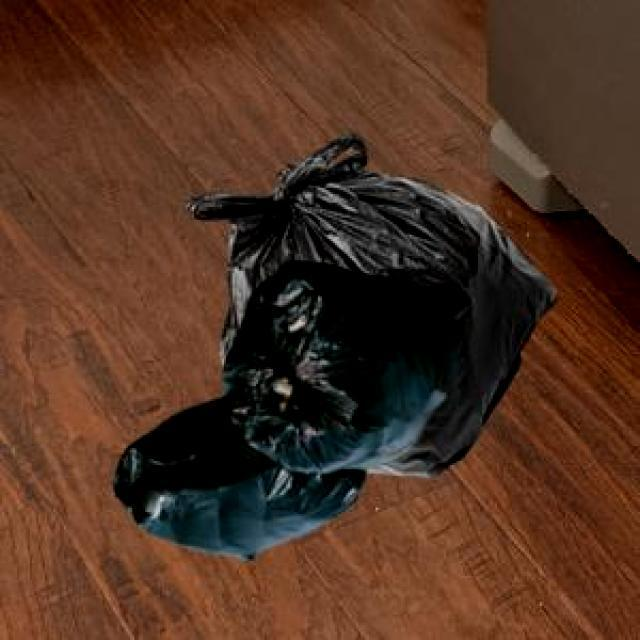Trashbag: (220, 252, 484, 481), (111, 417, 329, 559)
